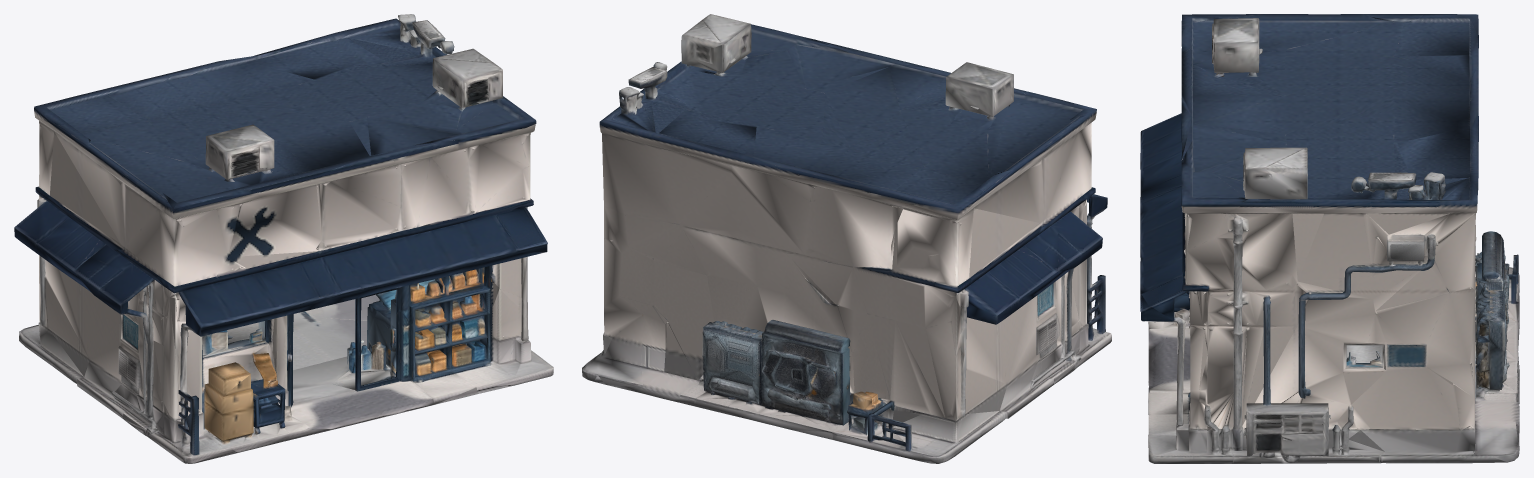
The model's file is BLD_020_hardware_store_a_source.glb.
3 views of the same model, side by side, from view 1: azimuth 30°, elevation 25°; view 2: azimuth 150°, elevation 25°; view 3: azimuth 270°, elevation 25° (orthographic). The views are drawn at different scales.
Parts seen in each view (by area): view 1: Mesh_0; view 2: Mesh_0; view 3: Mesh_0.
Boxes of the visible parts, x1,y1,x2,y2 form: Mesh_0: (14, 14, 553, 463); Mesh_0: (582, 14, 1111, 463); Mesh_0: (1140, 14, 1519, 463).
Bounding box in the file's own units: 6.95 × 4.5 × 5.3.
Materials: 1 (1 with a texture image).
